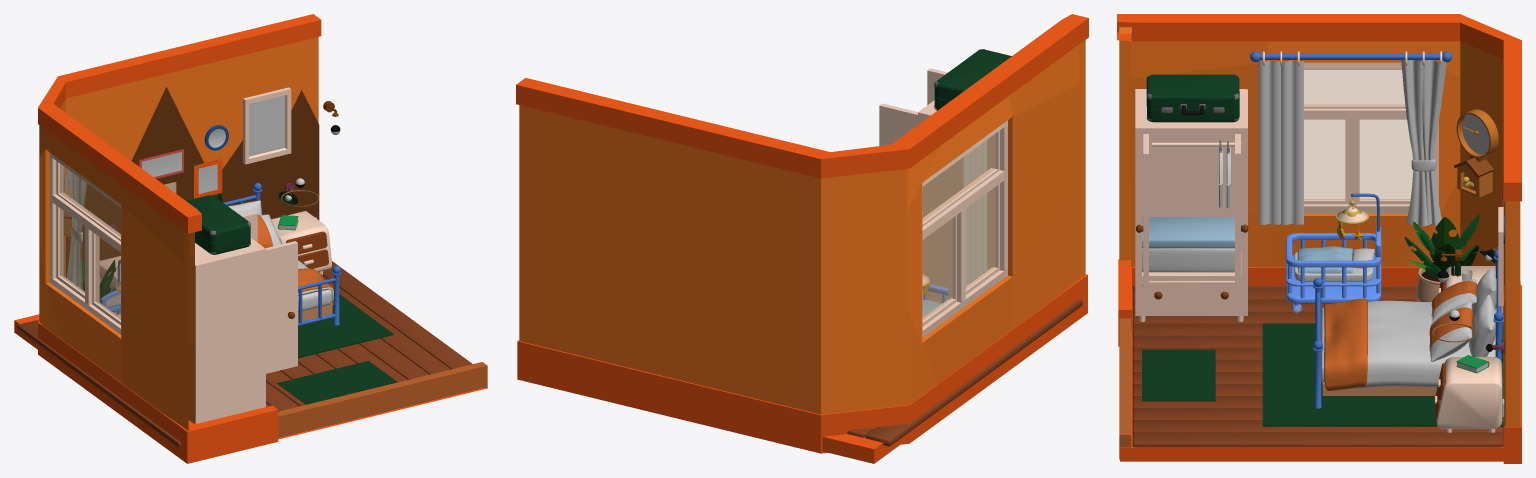
Rendered from bedroom.obj.
3 renders of one model, left to right at view 1: azimuth 30°, elevation 25°; view 2: azimuth 150°, elevation 25°; view 3: azimuth 270°, elevation 25°, orthographic. The views are drawn at different scales.
Visible parts, largest first — view 1: 立方体, 立方体.006, 立方体.001, 立方体.071, 立方体.010, 立方体.011, 立方体.008, 立方体.051, 平面, 立方体.024, 立方体.018, 立方体.034 (+11 smaller); view 2: 立方体, 立方体.011, 立方体.001, 平面, 立方体.051, 立方体.006, 平面.001, 立方体.010, 立方体.037, 平面.010, 立方体.025; view 3: 立方体, 立方体.010, 立方体.001, 立方体.006, 平面, 立方体.034, 平面.001, 平面.002, 平面.010, 立方体.051, 平面.008, 立方体.003 (+36 smaller).
Part boxes in pixels (<box>): 立方体: <box>39,37,318,430</box>; 立方体.006: <box>195,238,265,423</box>; 立方体.001: <box>38,14,321,233</box>; 立方体.071: <box>66,87,319,277</box>; 立方体.010: <box>17,261,472,447</box>; 立方体.011: <box>38,320,278,463</box>; 立方体.008: <box>278,362,487,437</box>; 立方体.051: <box>49,152,121,334</box>; 平面: <box>60,164,120,319</box>; 立方体.024: <box>266,241,297,373</box>; 立方体.018: <box>243,87,291,164</box>; 立方体.034: <box>298,294,393,358</box>; 立方体: <box>519,40,1085,414</box>; 立方体.011: <box>517,274,1087,453</box>; 立方体.001: <box>516,14,1088,178</box>; 平面: <box>923,134,995,320</box>; 立方体.051: <box>922,120,1007,337</box>; 立方体.006: <box>918,100,991,303</box>; 平面.001: <box>963,140,987,285</box>; 立方体.010: <box>847,299,1082,446</box>; 立方体.037: <box>934,49,1011,100</box>; 平面.010: <box>822,434,903,463</box>; 立方体.025: <box>879,103,917,145</box>; 立方体: <box>1119,27,1520,426</box>; 立方体.010: <box>1132,285,1503,447</box>; 立方体.001: <box>1117,14,1521,201</box>; 立方体.006: <box>1135,89,1247,315</box>; 平面: <box>1304,70,1412,199</box>; 立方体.034: <box>1262,323,1503,426</box>; 平面.001: <box>1258,60,1303,224</box>; 平面.002: <box>1323,300,1496,389</box>; 平面.010: <box>1120,282,1520,461</box>; 立方体.051: <box>1304,62,1438,213</box>; 平面.008: <box>1401,60,1446,226</box>; 立方体.003: <box>1436,357,1502,428</box>.
Size of what is drawn, in the model's own units: 7.82 by 6.08 by 7.87.
